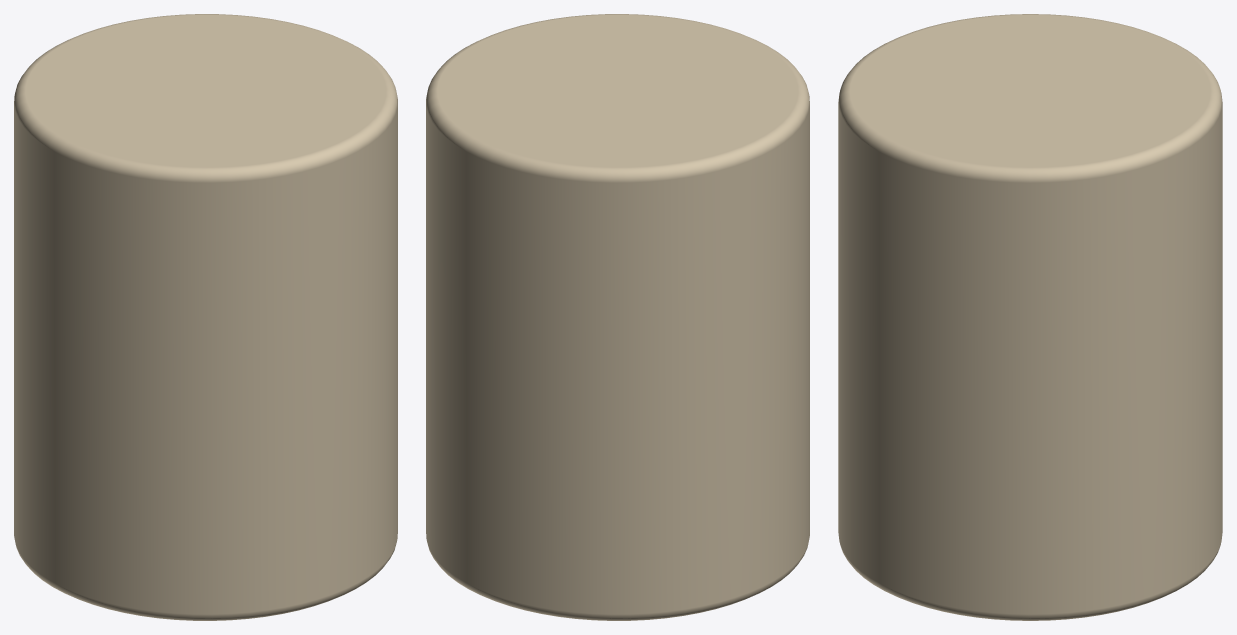
File: hero-stepping-0.glb
3 renders of one model, left to right at view 1: azimuth 30°, elevation 25°; view 2: azimuth 150°, elevation 25°; view 3: azimuth 270°, elevation 25°, orthographic.
Visible parts, largest first — view 1: Honed stone stepping disc; view 2: Honed stone stepping disc; view 3: Honed stone stepping disc.
Part boxes in pixels (bbox=[...]): Honed stone stepping disc: bbox=[14, 14, 397, 620]; Honed stone stepping disc: bbox=[426, 14, 809, 620]; Honed stone stepping disc: bbox=[838, 14, 1222, 620].
Bounding box in the file's own units: 0.0985 × 0.1281 × 0.0985.
